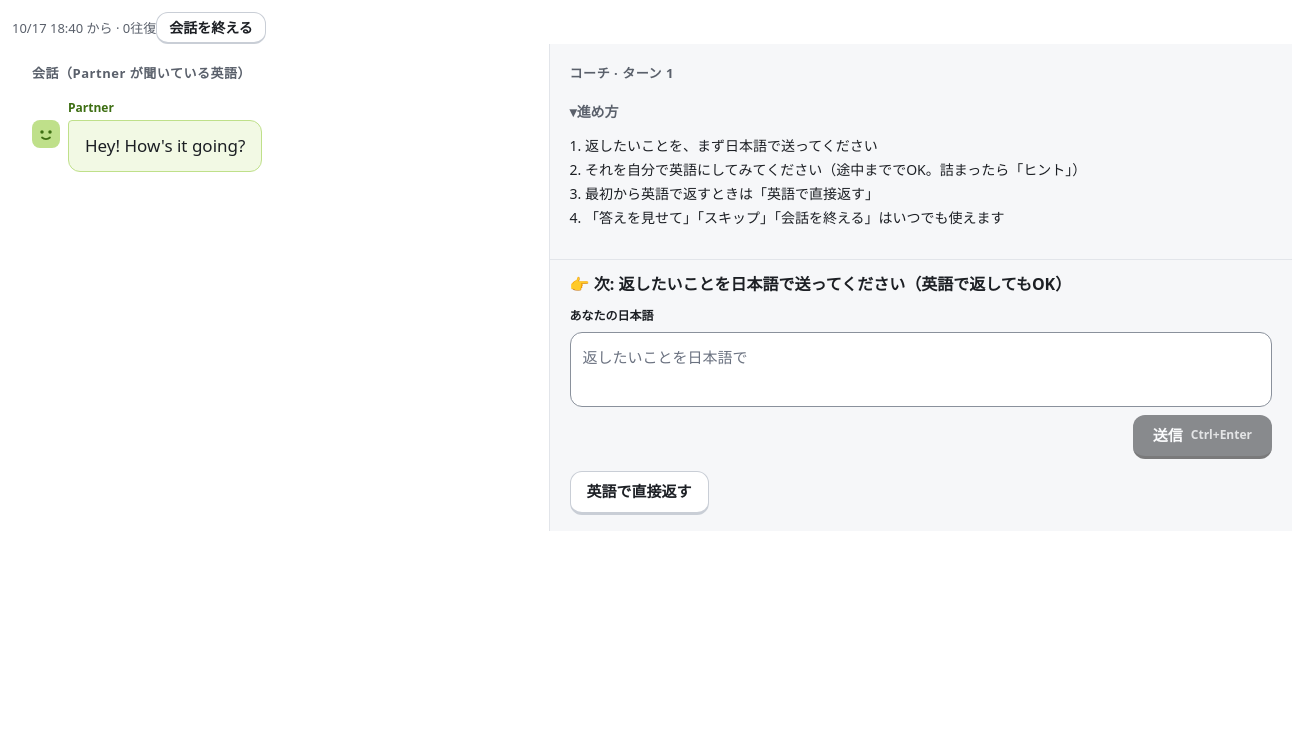
ConversationScreen ending while a request is in flight (REQ-010) › keeps 会話を終える usable, posts end with the shown version, renders the ended view at once, and ignores the abandoned request's 409
Type "久しぶりに映画を見た" into the text box labelled "あなたの日本語" at (921, 369), box [570,332,1272,406]
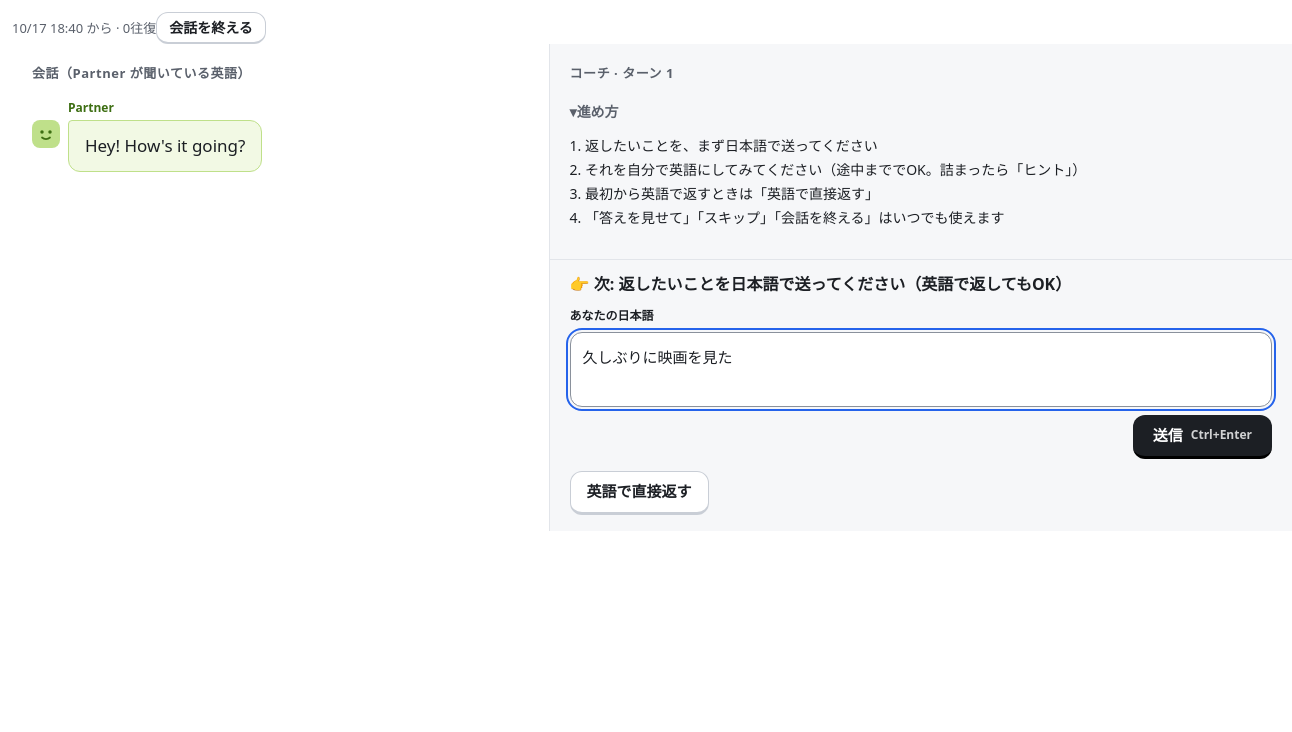
Type keys "{Meta>}{Enter}{/Meta}"
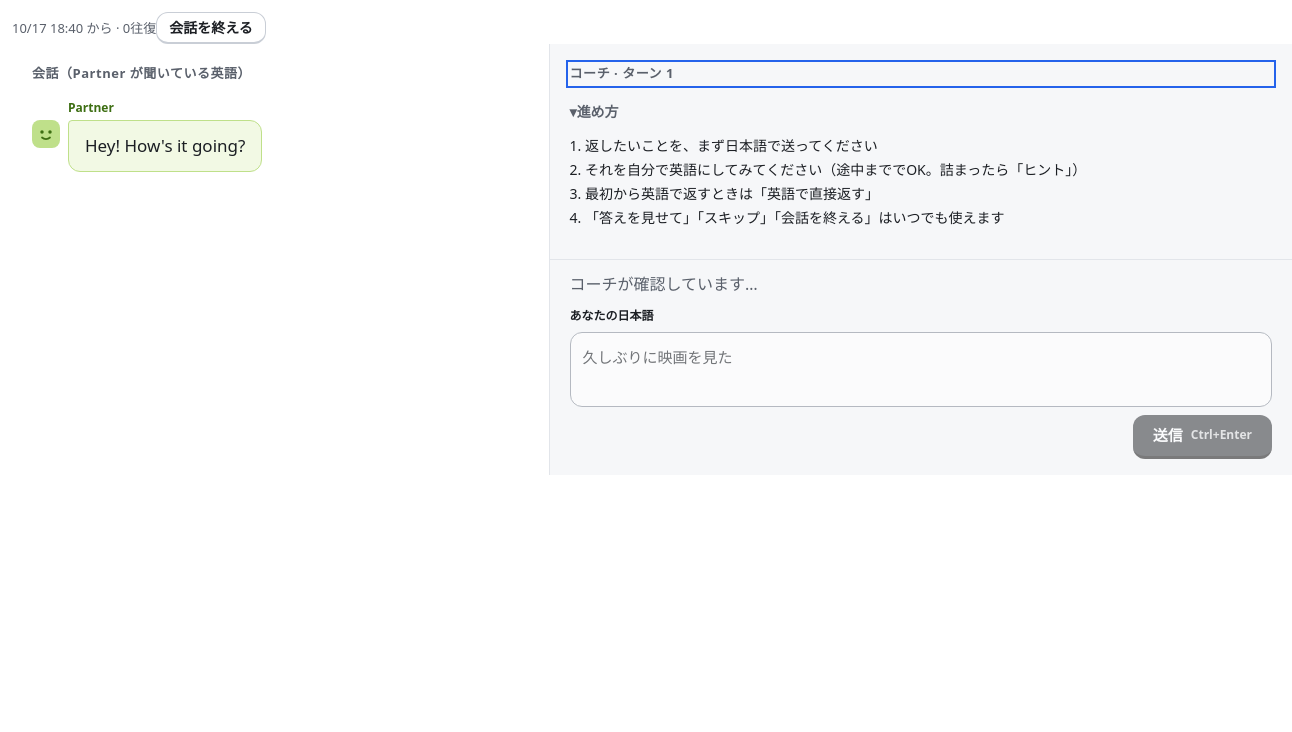
Click the button "会話を終える" at (211, 28), box [156,12,266,44]
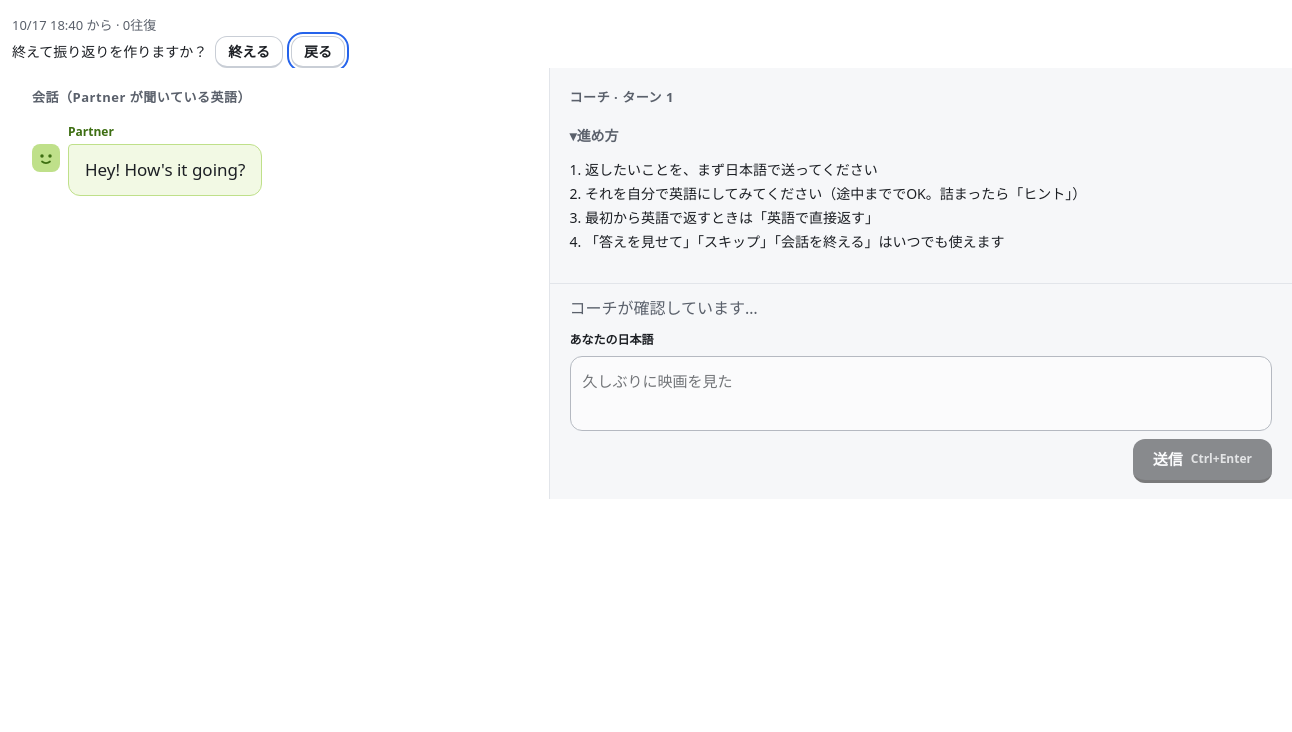
Click the button "終える" at (249, 52), box [215,36,283,68]
Wait 1000 ms
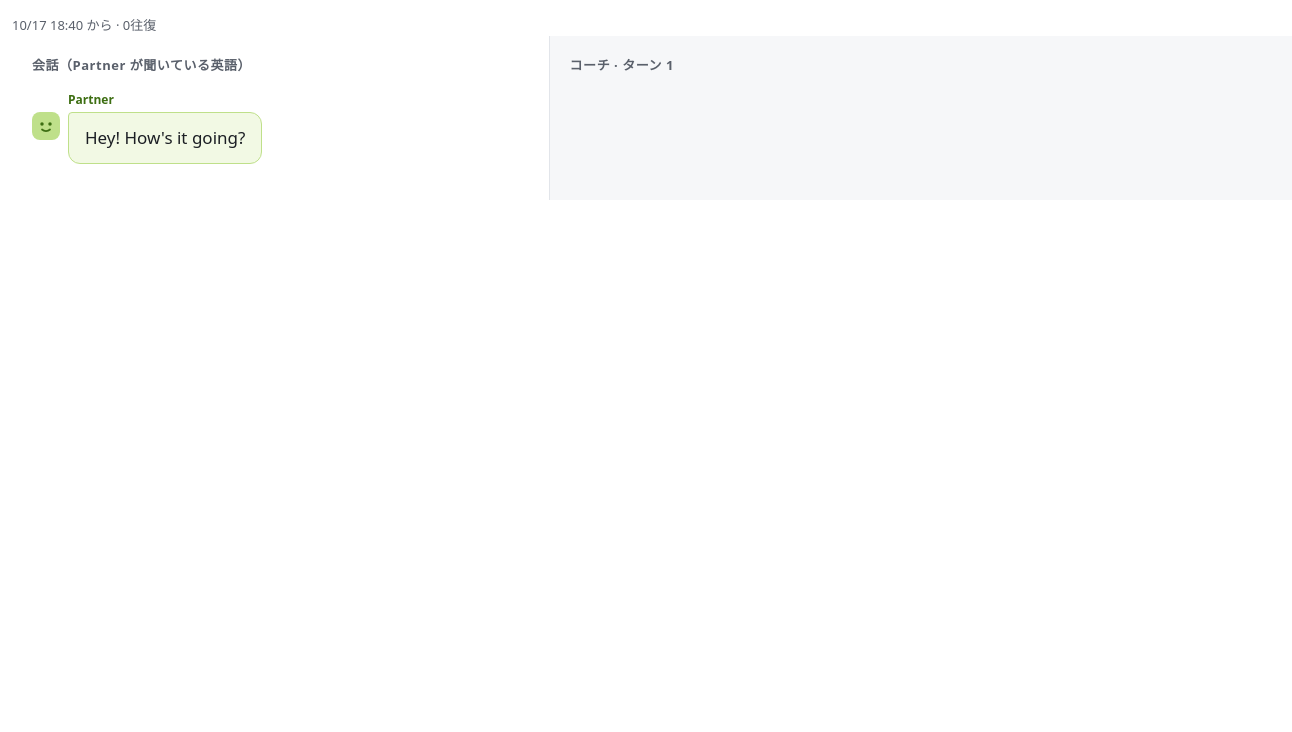
Expected: the text "👉 次" is not shown
Expected: the message "コーチが確認しています…" is gone
Expected: the text "コーチが確認しています…" is gone
